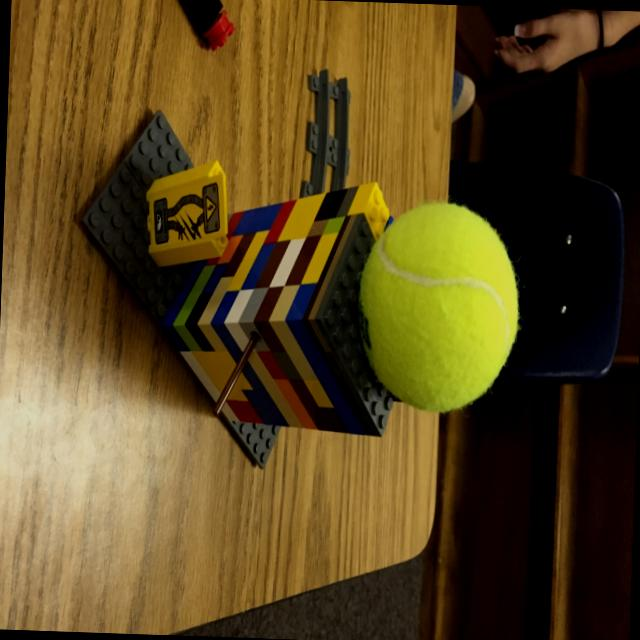Tennis Ball: (354, 195, 526, 412)
